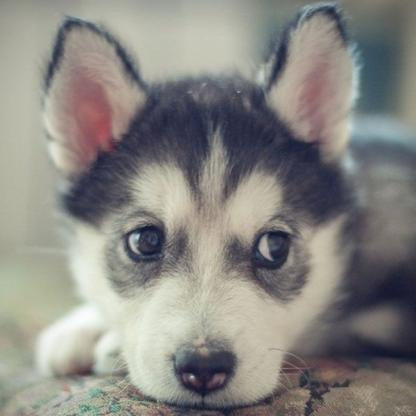husky: (28, 10, 416, 412)
